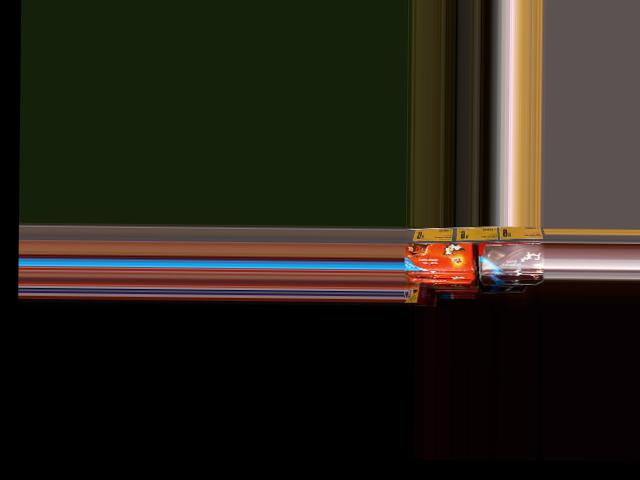chocolate: (484, 235, 545, 274)
